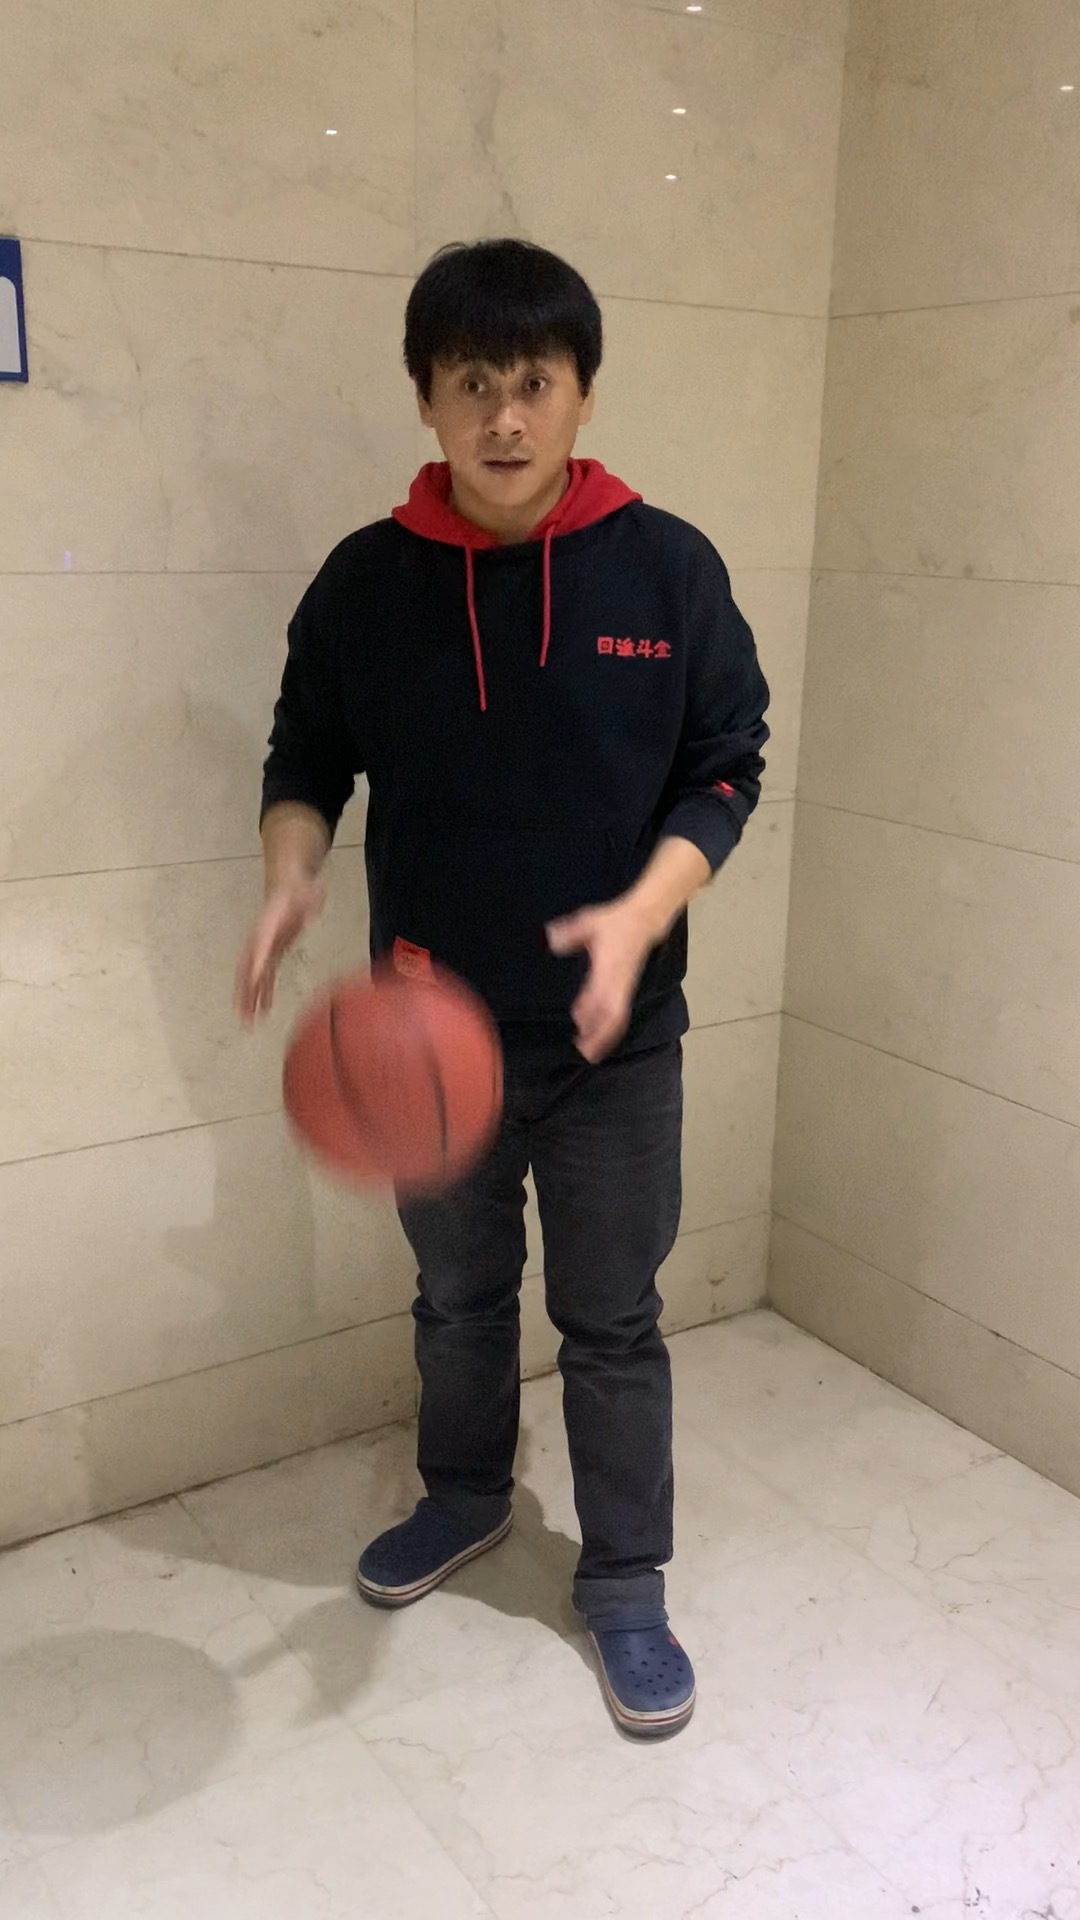ball: (285, 982, 502, 1184)
